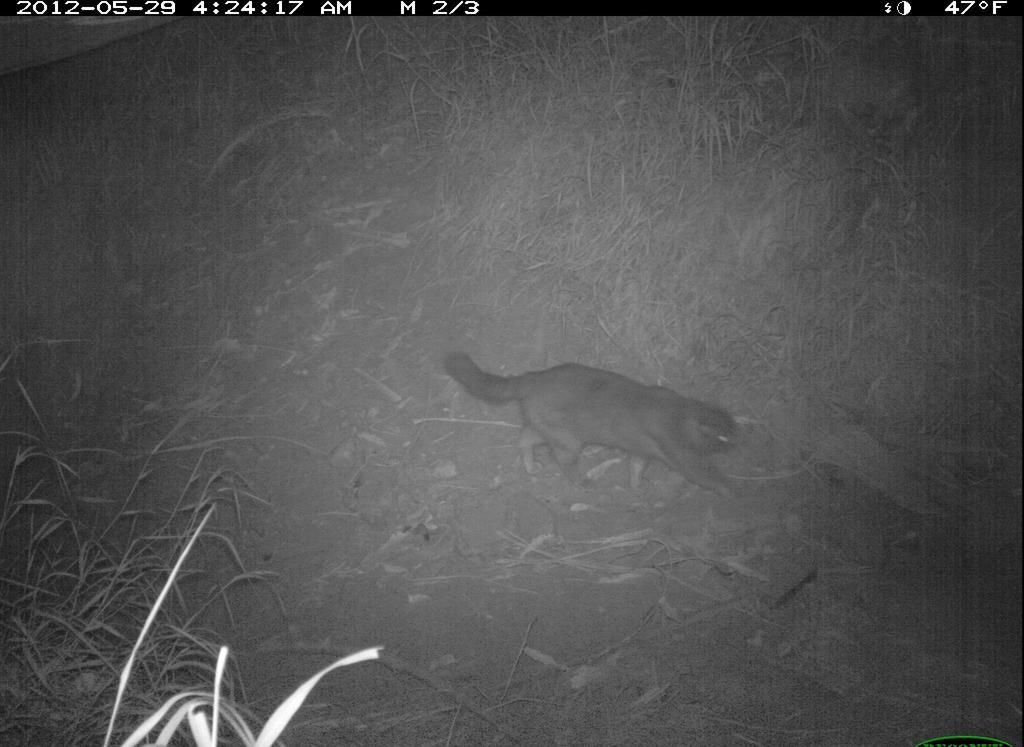cat: (438, 337, 765, 513)
